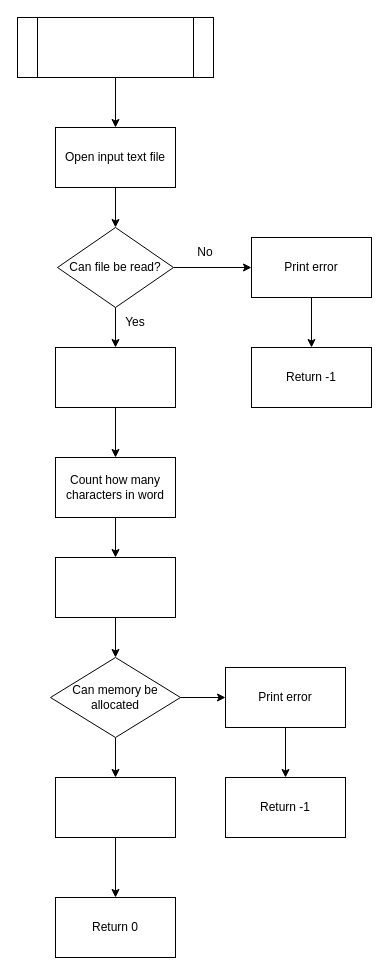
This 389x975 diagram has some shape labels left out. The centre of each missing label's shape, as x and y in pixels:
"Allocate memory for word array" belongs at (115,587).
"F_ReadWordToASCIIArray" belongs at (115,47).
"Read letters into word array" belongs at (115,807).
"Skip skip letters" belongs at (115,377).
